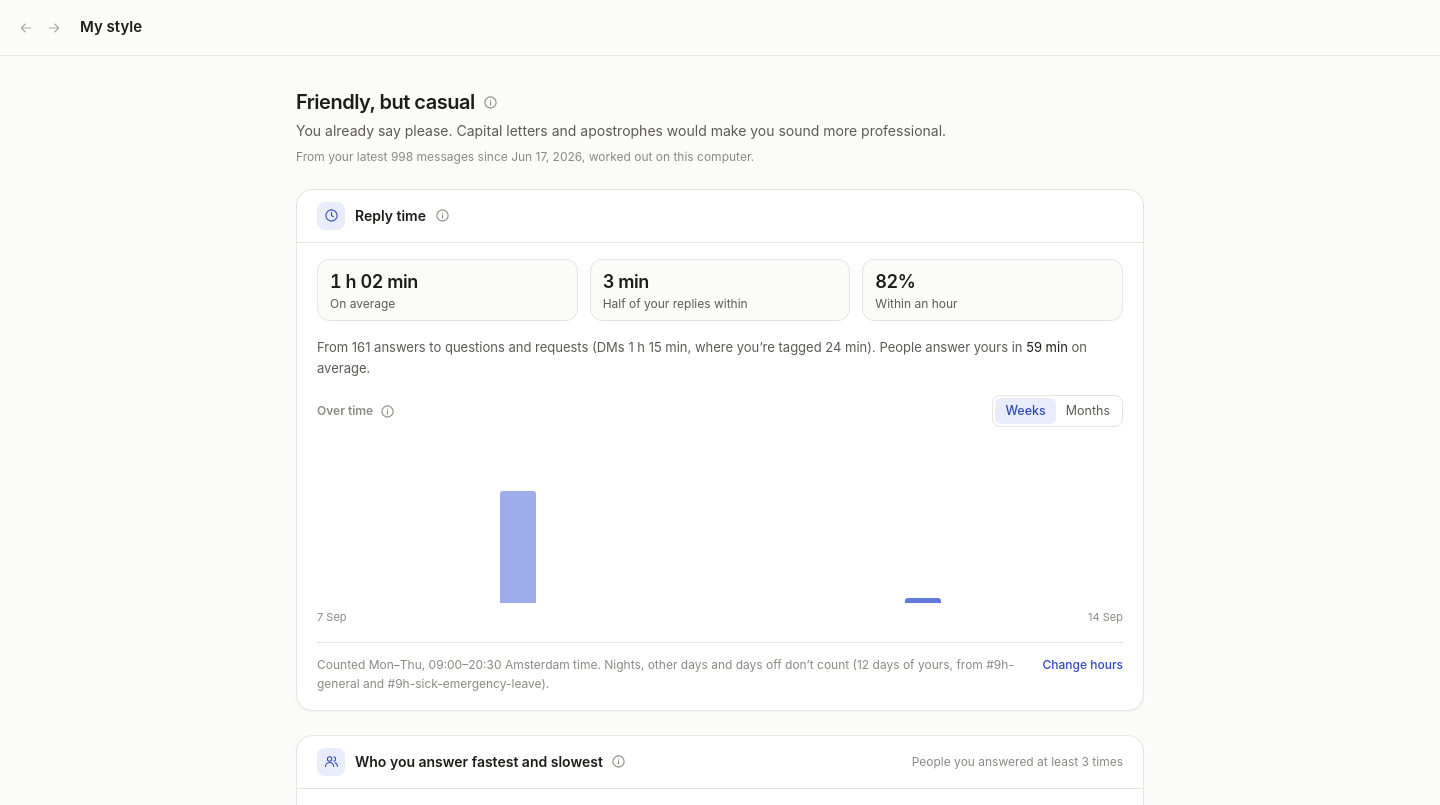
Test: My style › saves new working hours, and checks them first
The width and height of the screenshot is (1440, 805).
Click the button "Change hours": point(1083, 664) x1=1042 y1=654 x2=1123 y2=674
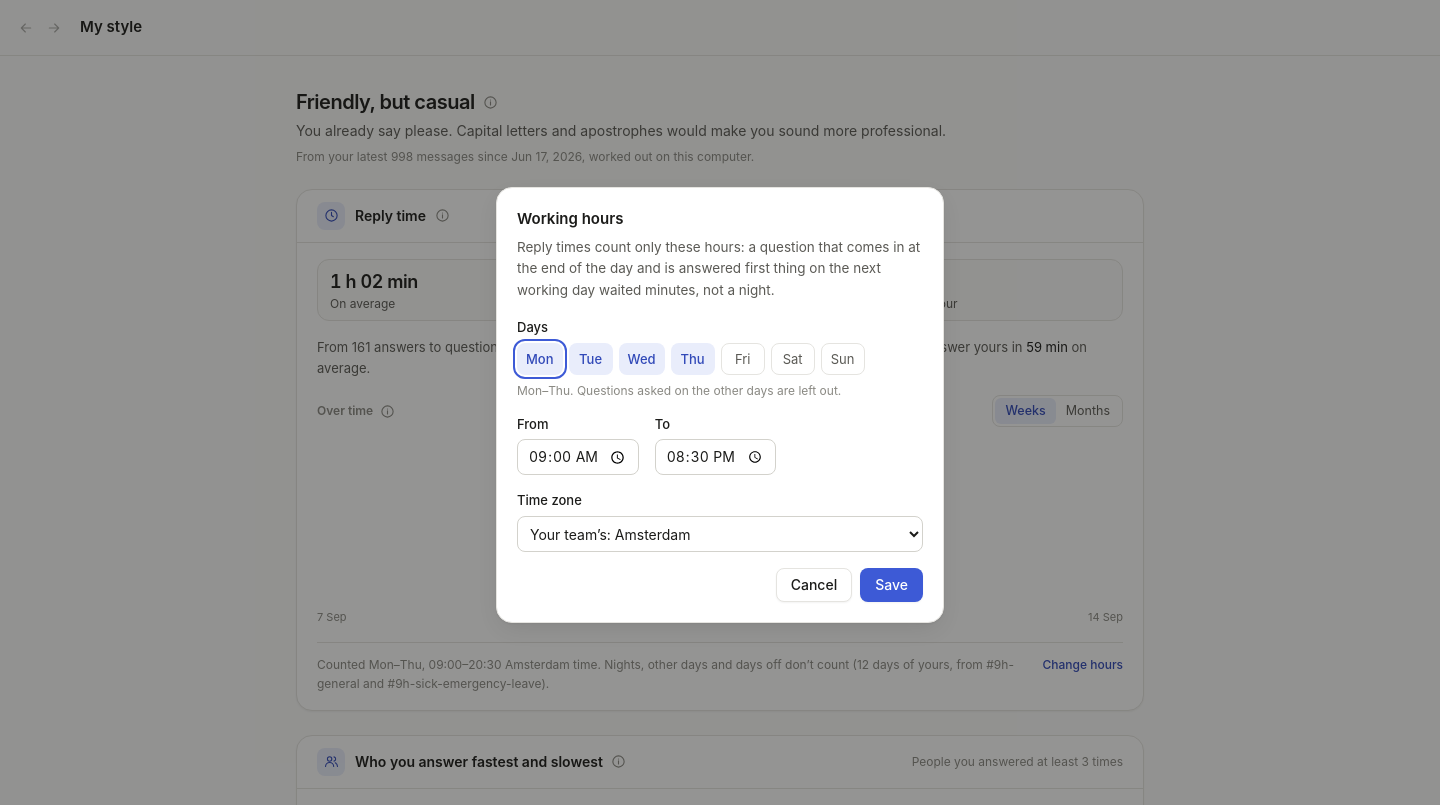
Click the button named "Friday": point(743, 359) x1=721 y1=343 x2=765 y2=375
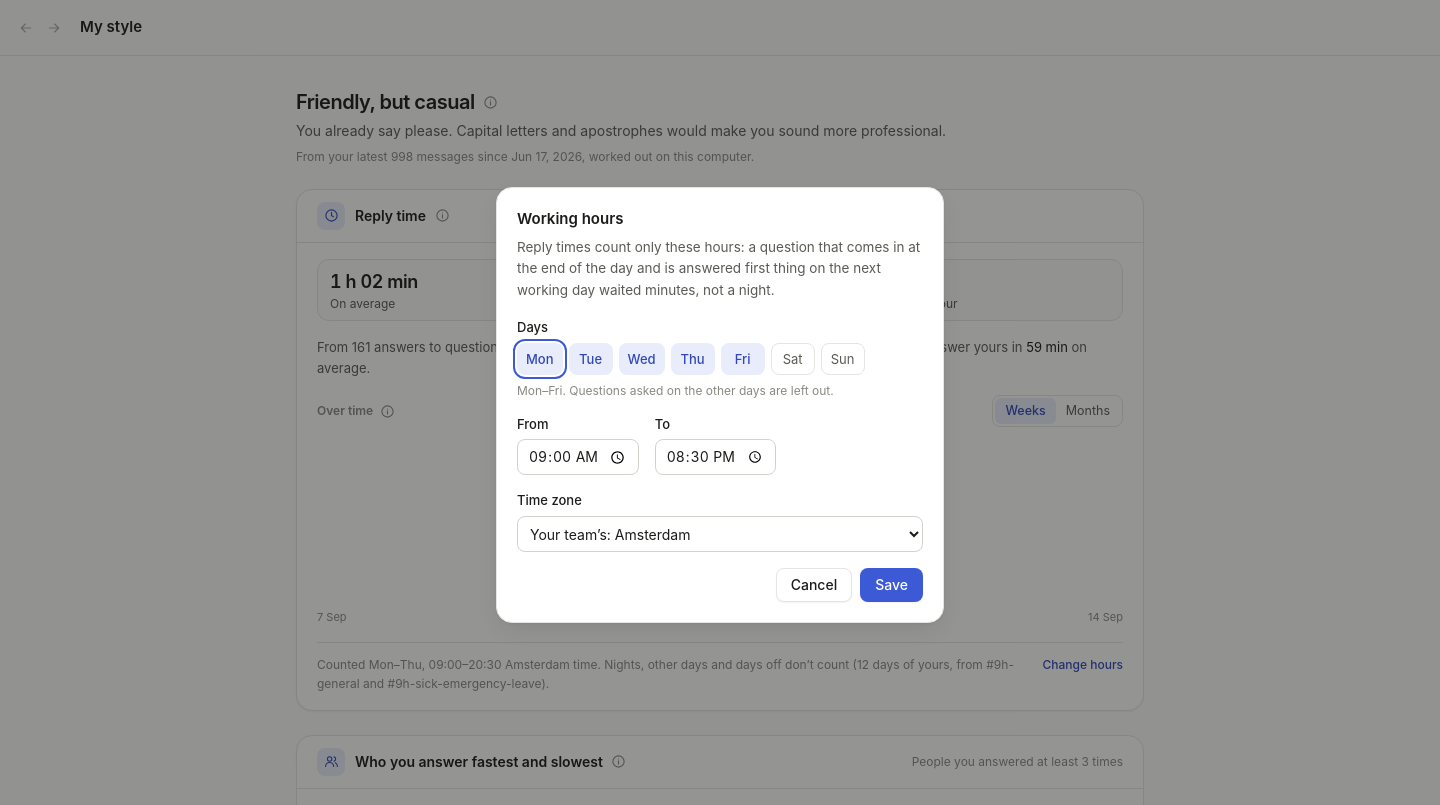
Replace the text in the time field labelled "To" with "18:30": point(716, 457) x1=655 y1=439 x2=776 y2=475
Select "Africa/Cairo" in the dropdown labelled "Time zone": point(720, 534) x1=517 y1=516 x2=923 y2=552
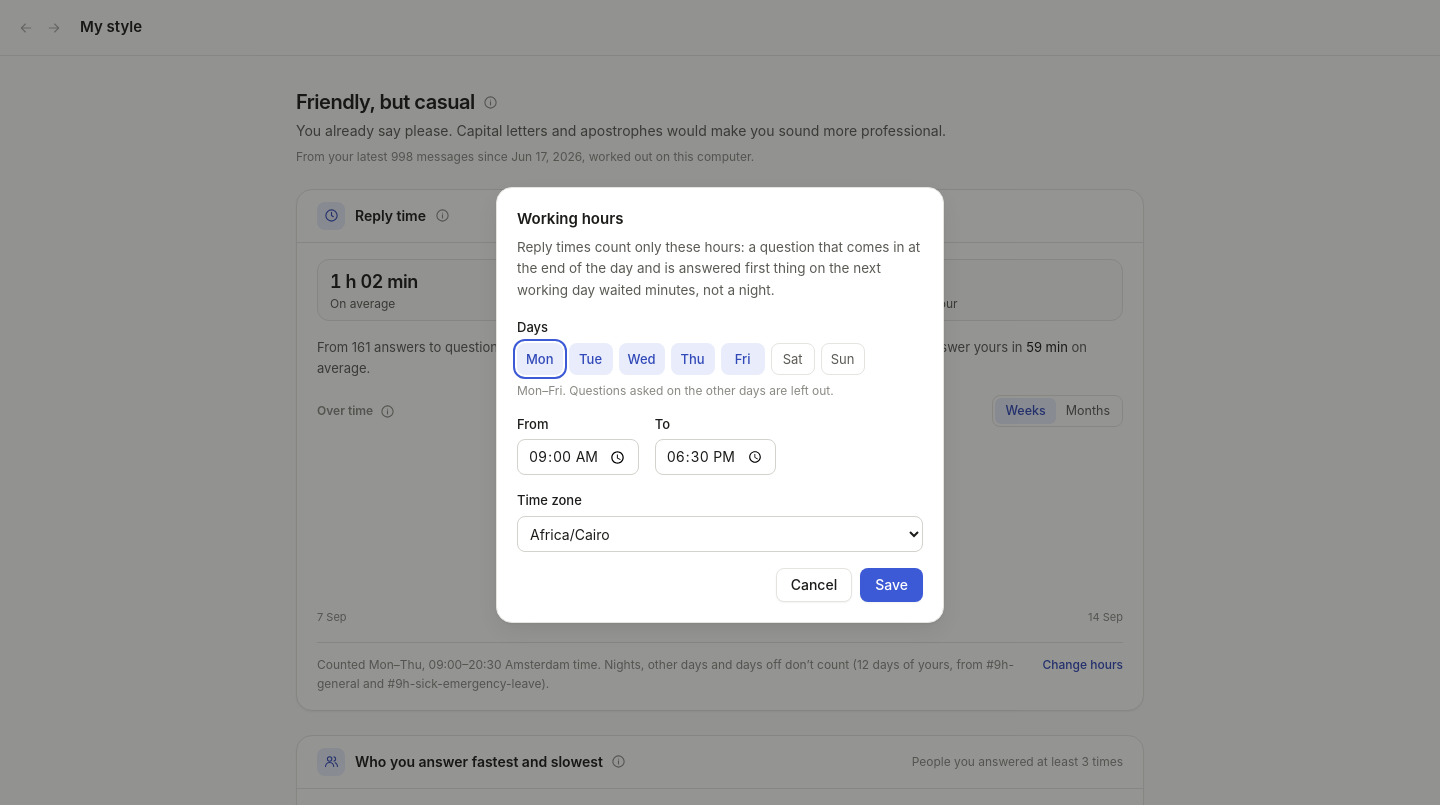
Click the button "Save": point(892, 585) x1=860 y1=568 x2=923 y2=602
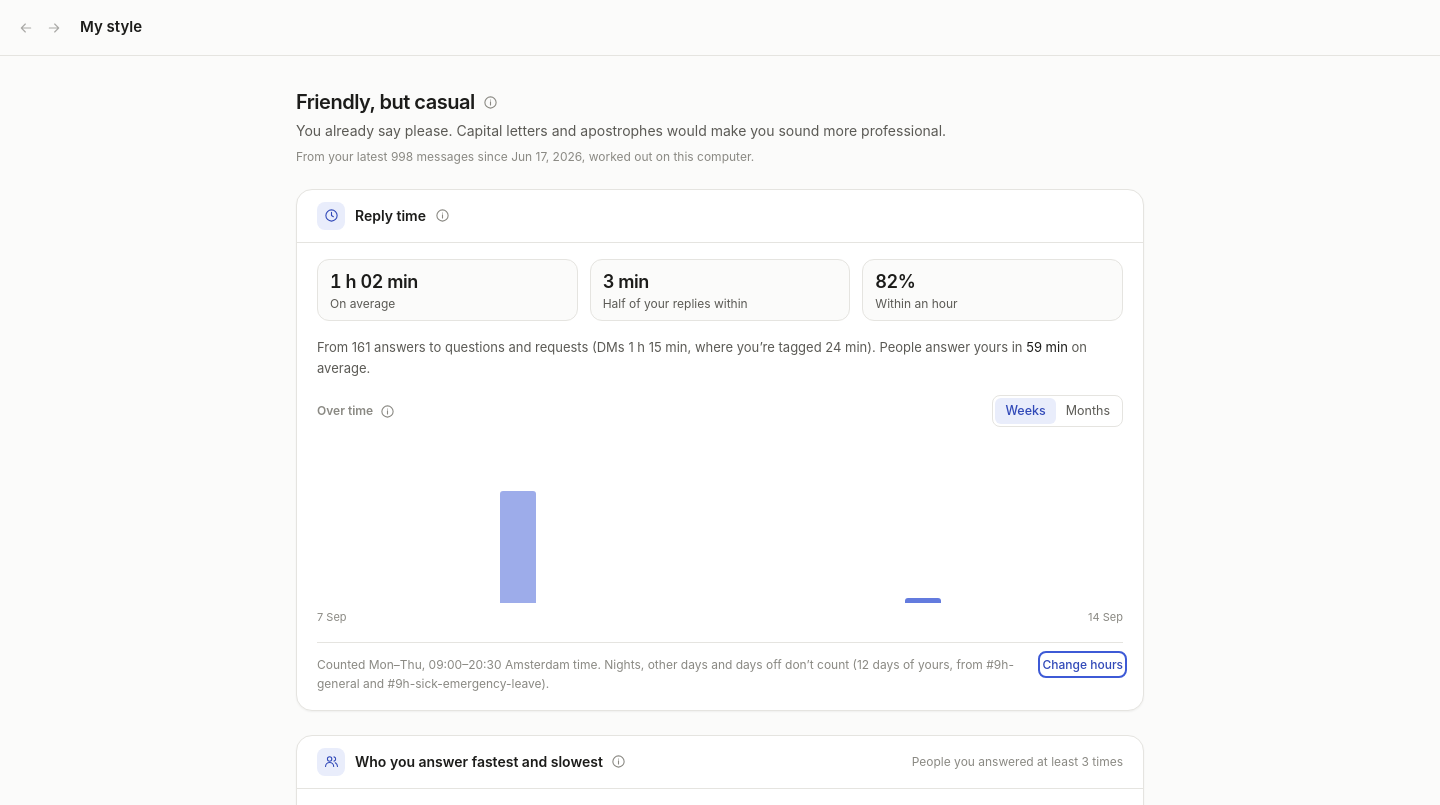
Expected: the dialog is gone
Click the button "Change hours": point(1083, 664) x1=1042 y1=654 x2=1123 y2=674
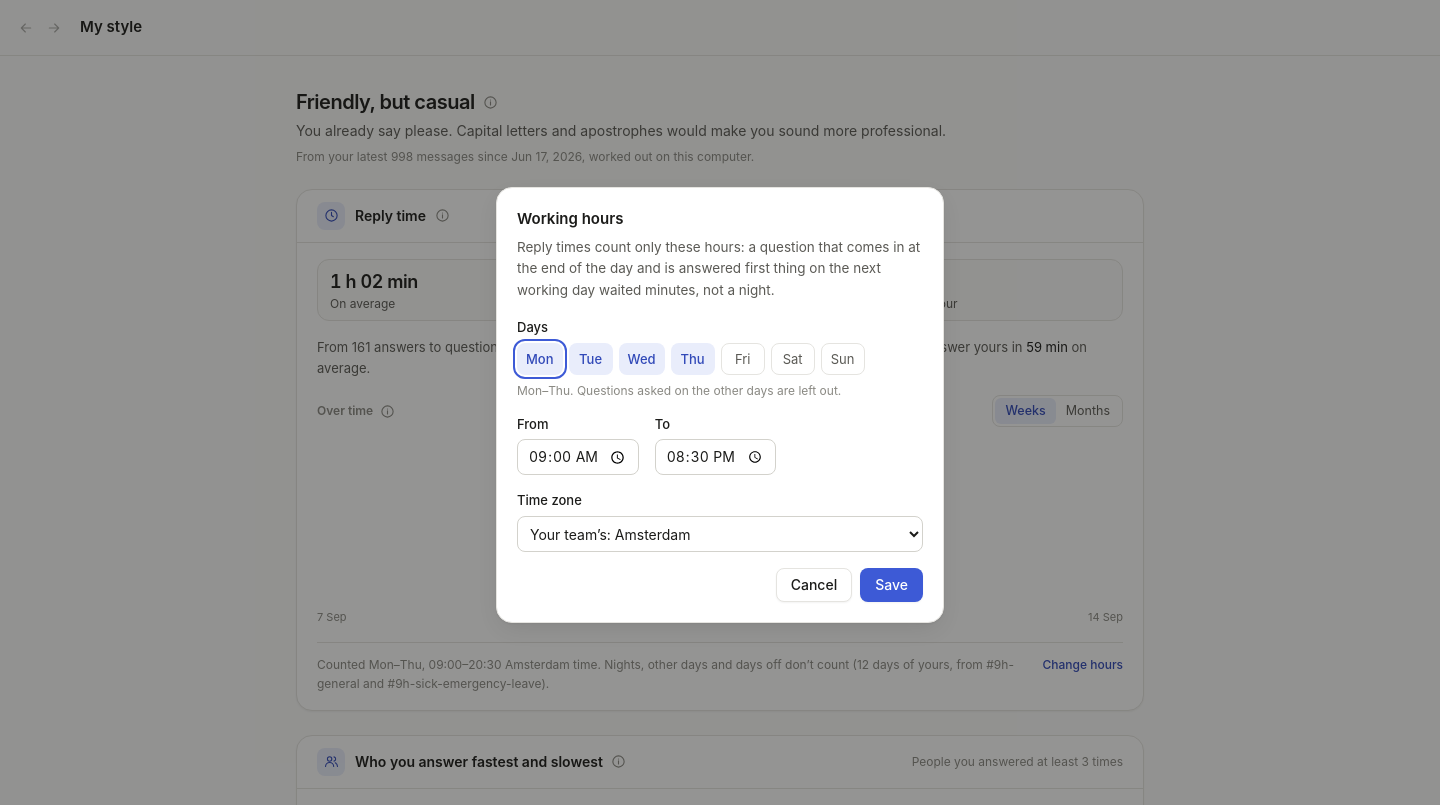
Replace the text in the time field labelled "From" with "21:00": point(578, 457) x1=517 y1=439 x2=639 y2=475
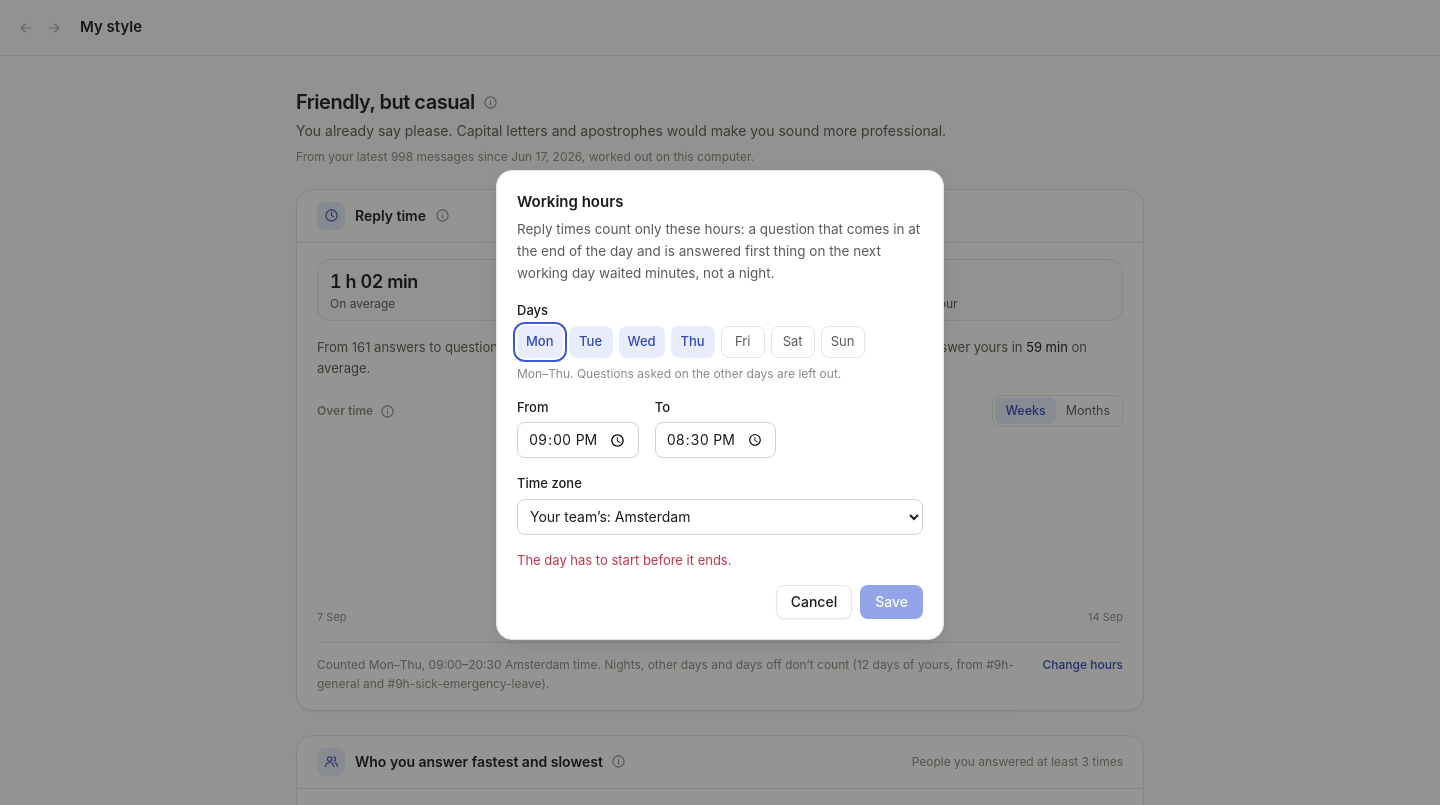
Expected: the message reads "The day has to start before it ends.", x1=517 y1=552 x2=732 y2=568
Expected: the button "Save" is disabled, x1=860 y1=585 x2=923 y2=619
